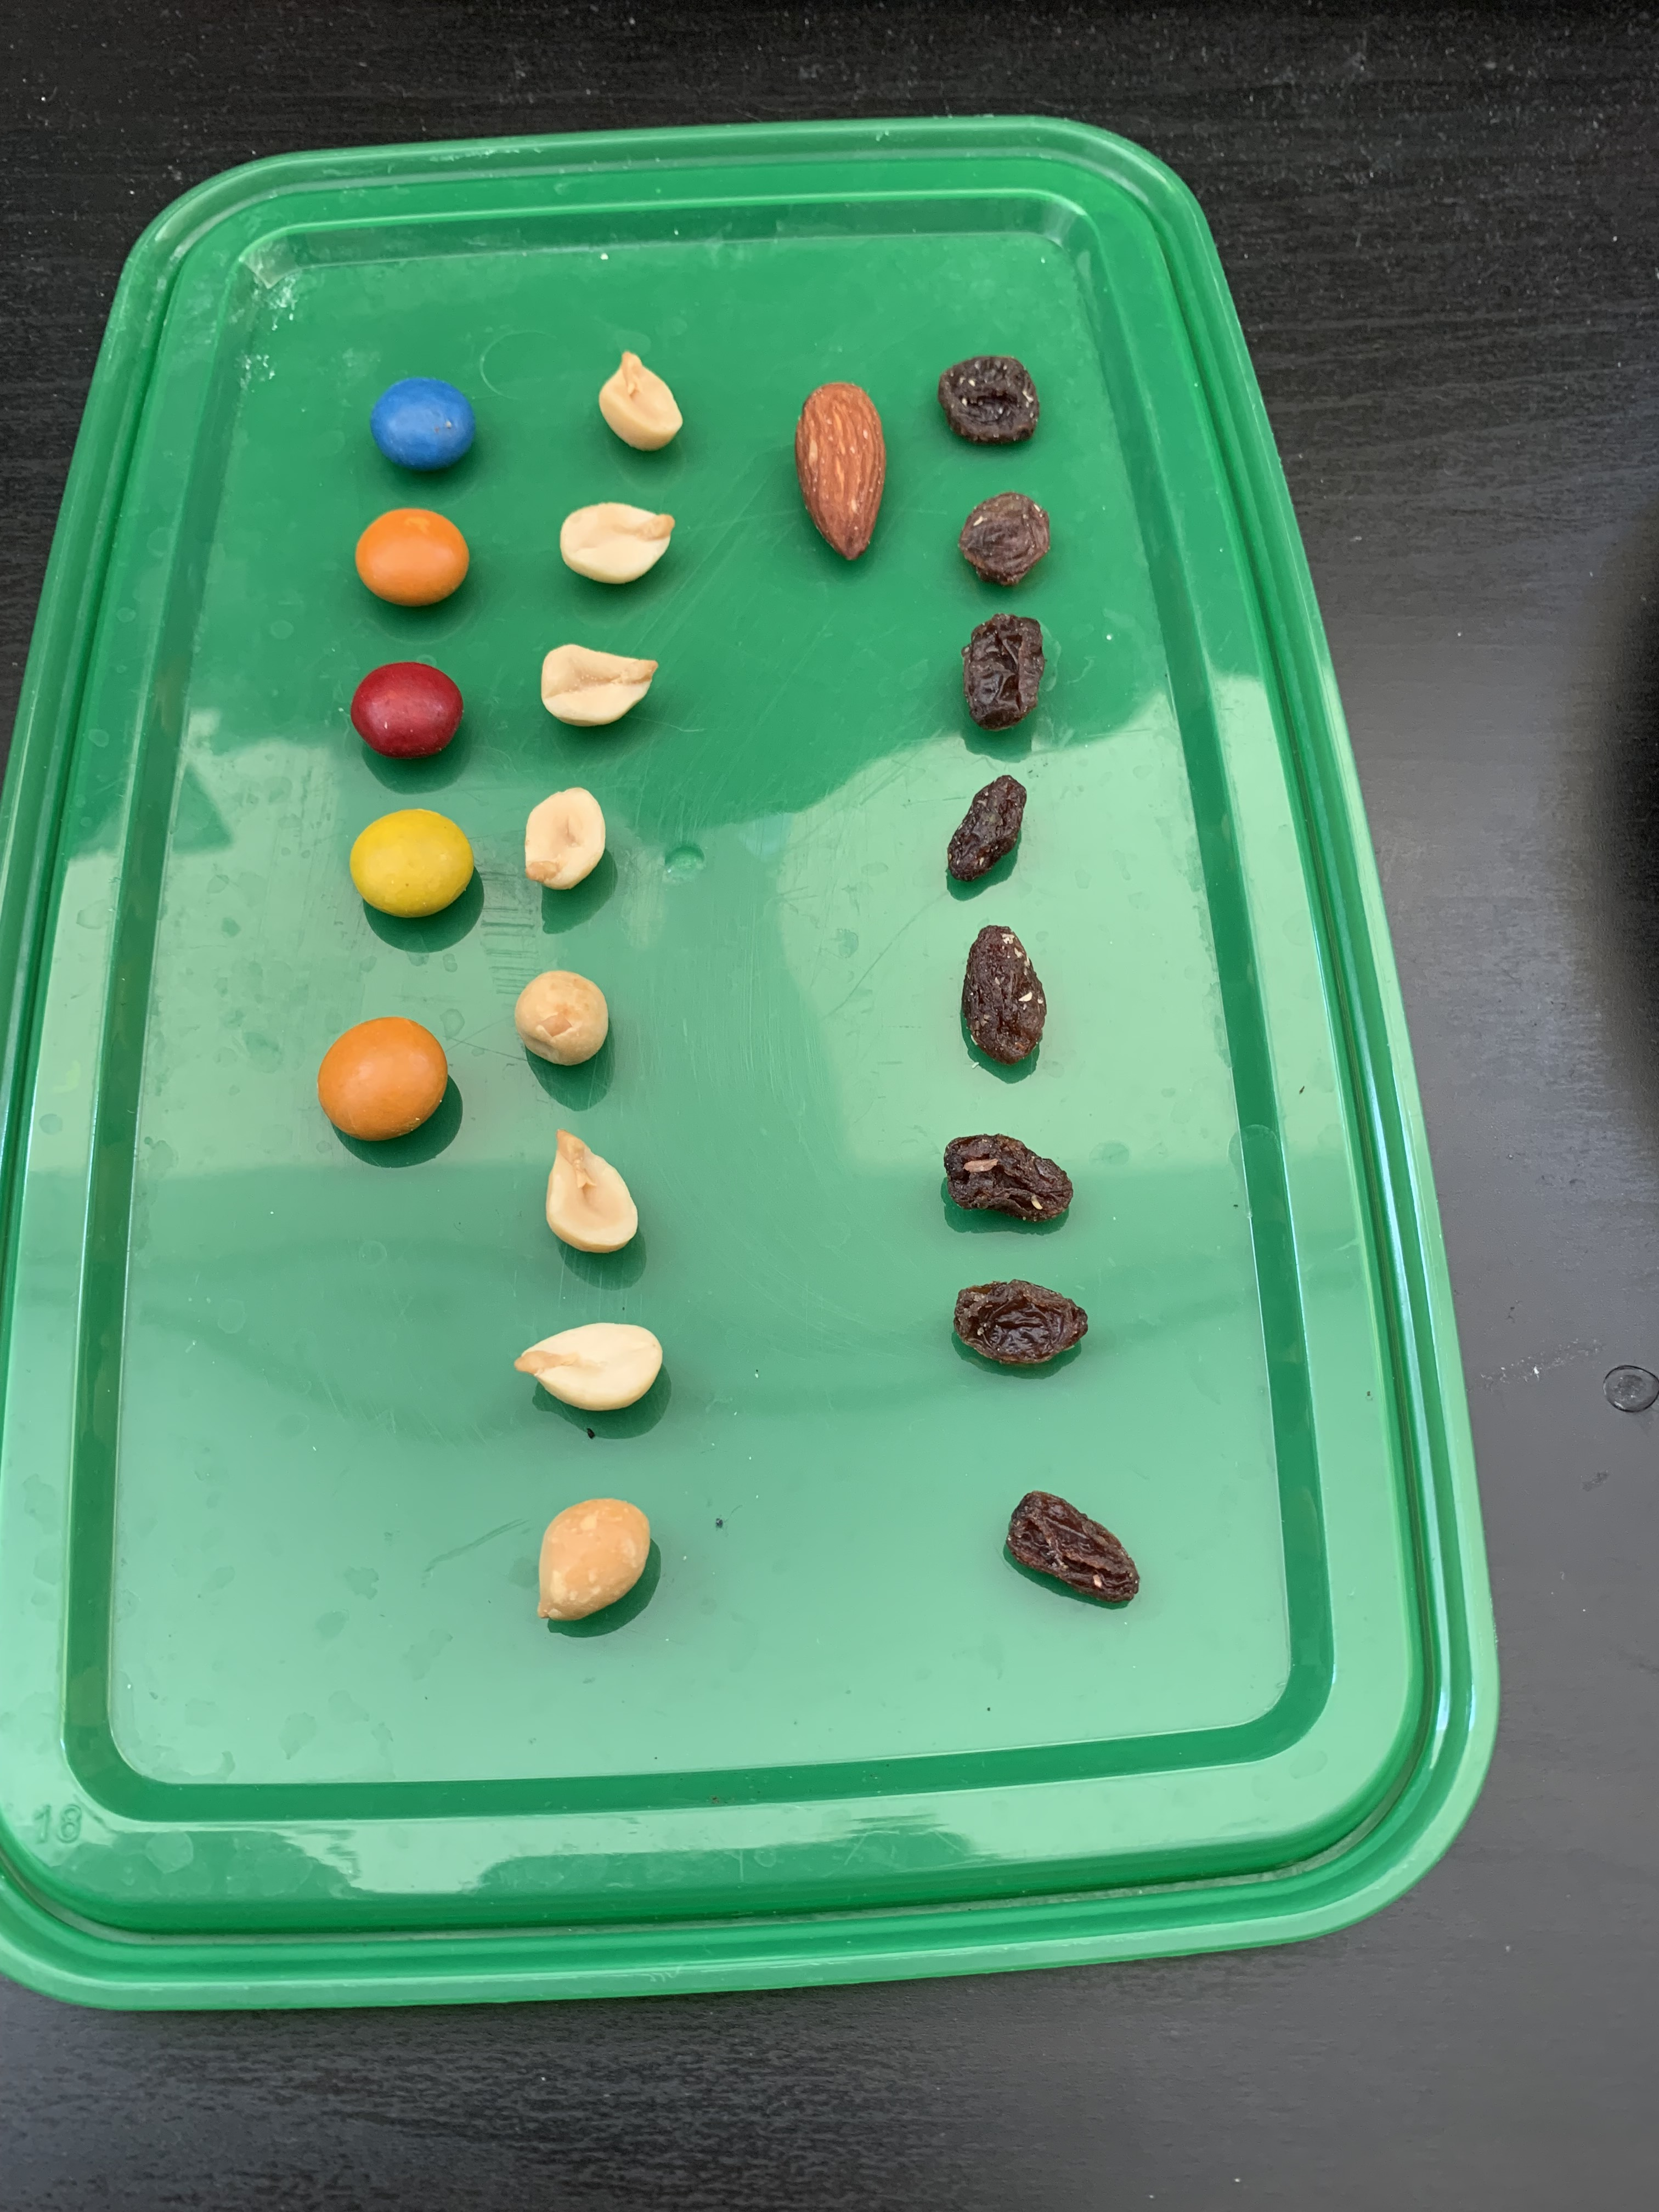almond: (793, 380, 887, 563)
mm: (319, 1014, 450, 1144), (350, 808, 474, 920), (356, 505, 471, 608), (349, 662, 464, 763), (368, 378, 477, 474)
peanut: (537, 1496, 653, 1622), (538, 1125, 643, 1261), (514, 1320, 667, 1413), (537, 643, 660, 732), (554, 498, 676, 587), (514, 968, 612, 1069), (596, 347, 685, 455), (523, 782, 608, 892)
raisin: (1002, 1489, 1140, 1608), (943, 1132, 1075, 1228), (953, 1277, 1091, 1367), (960, 925, 1049, 1064), (938, 352, 1042, 449), (962, 613, 1047, 732), (953, 488, 1051, 587), (945, 773, 1030, 881)
